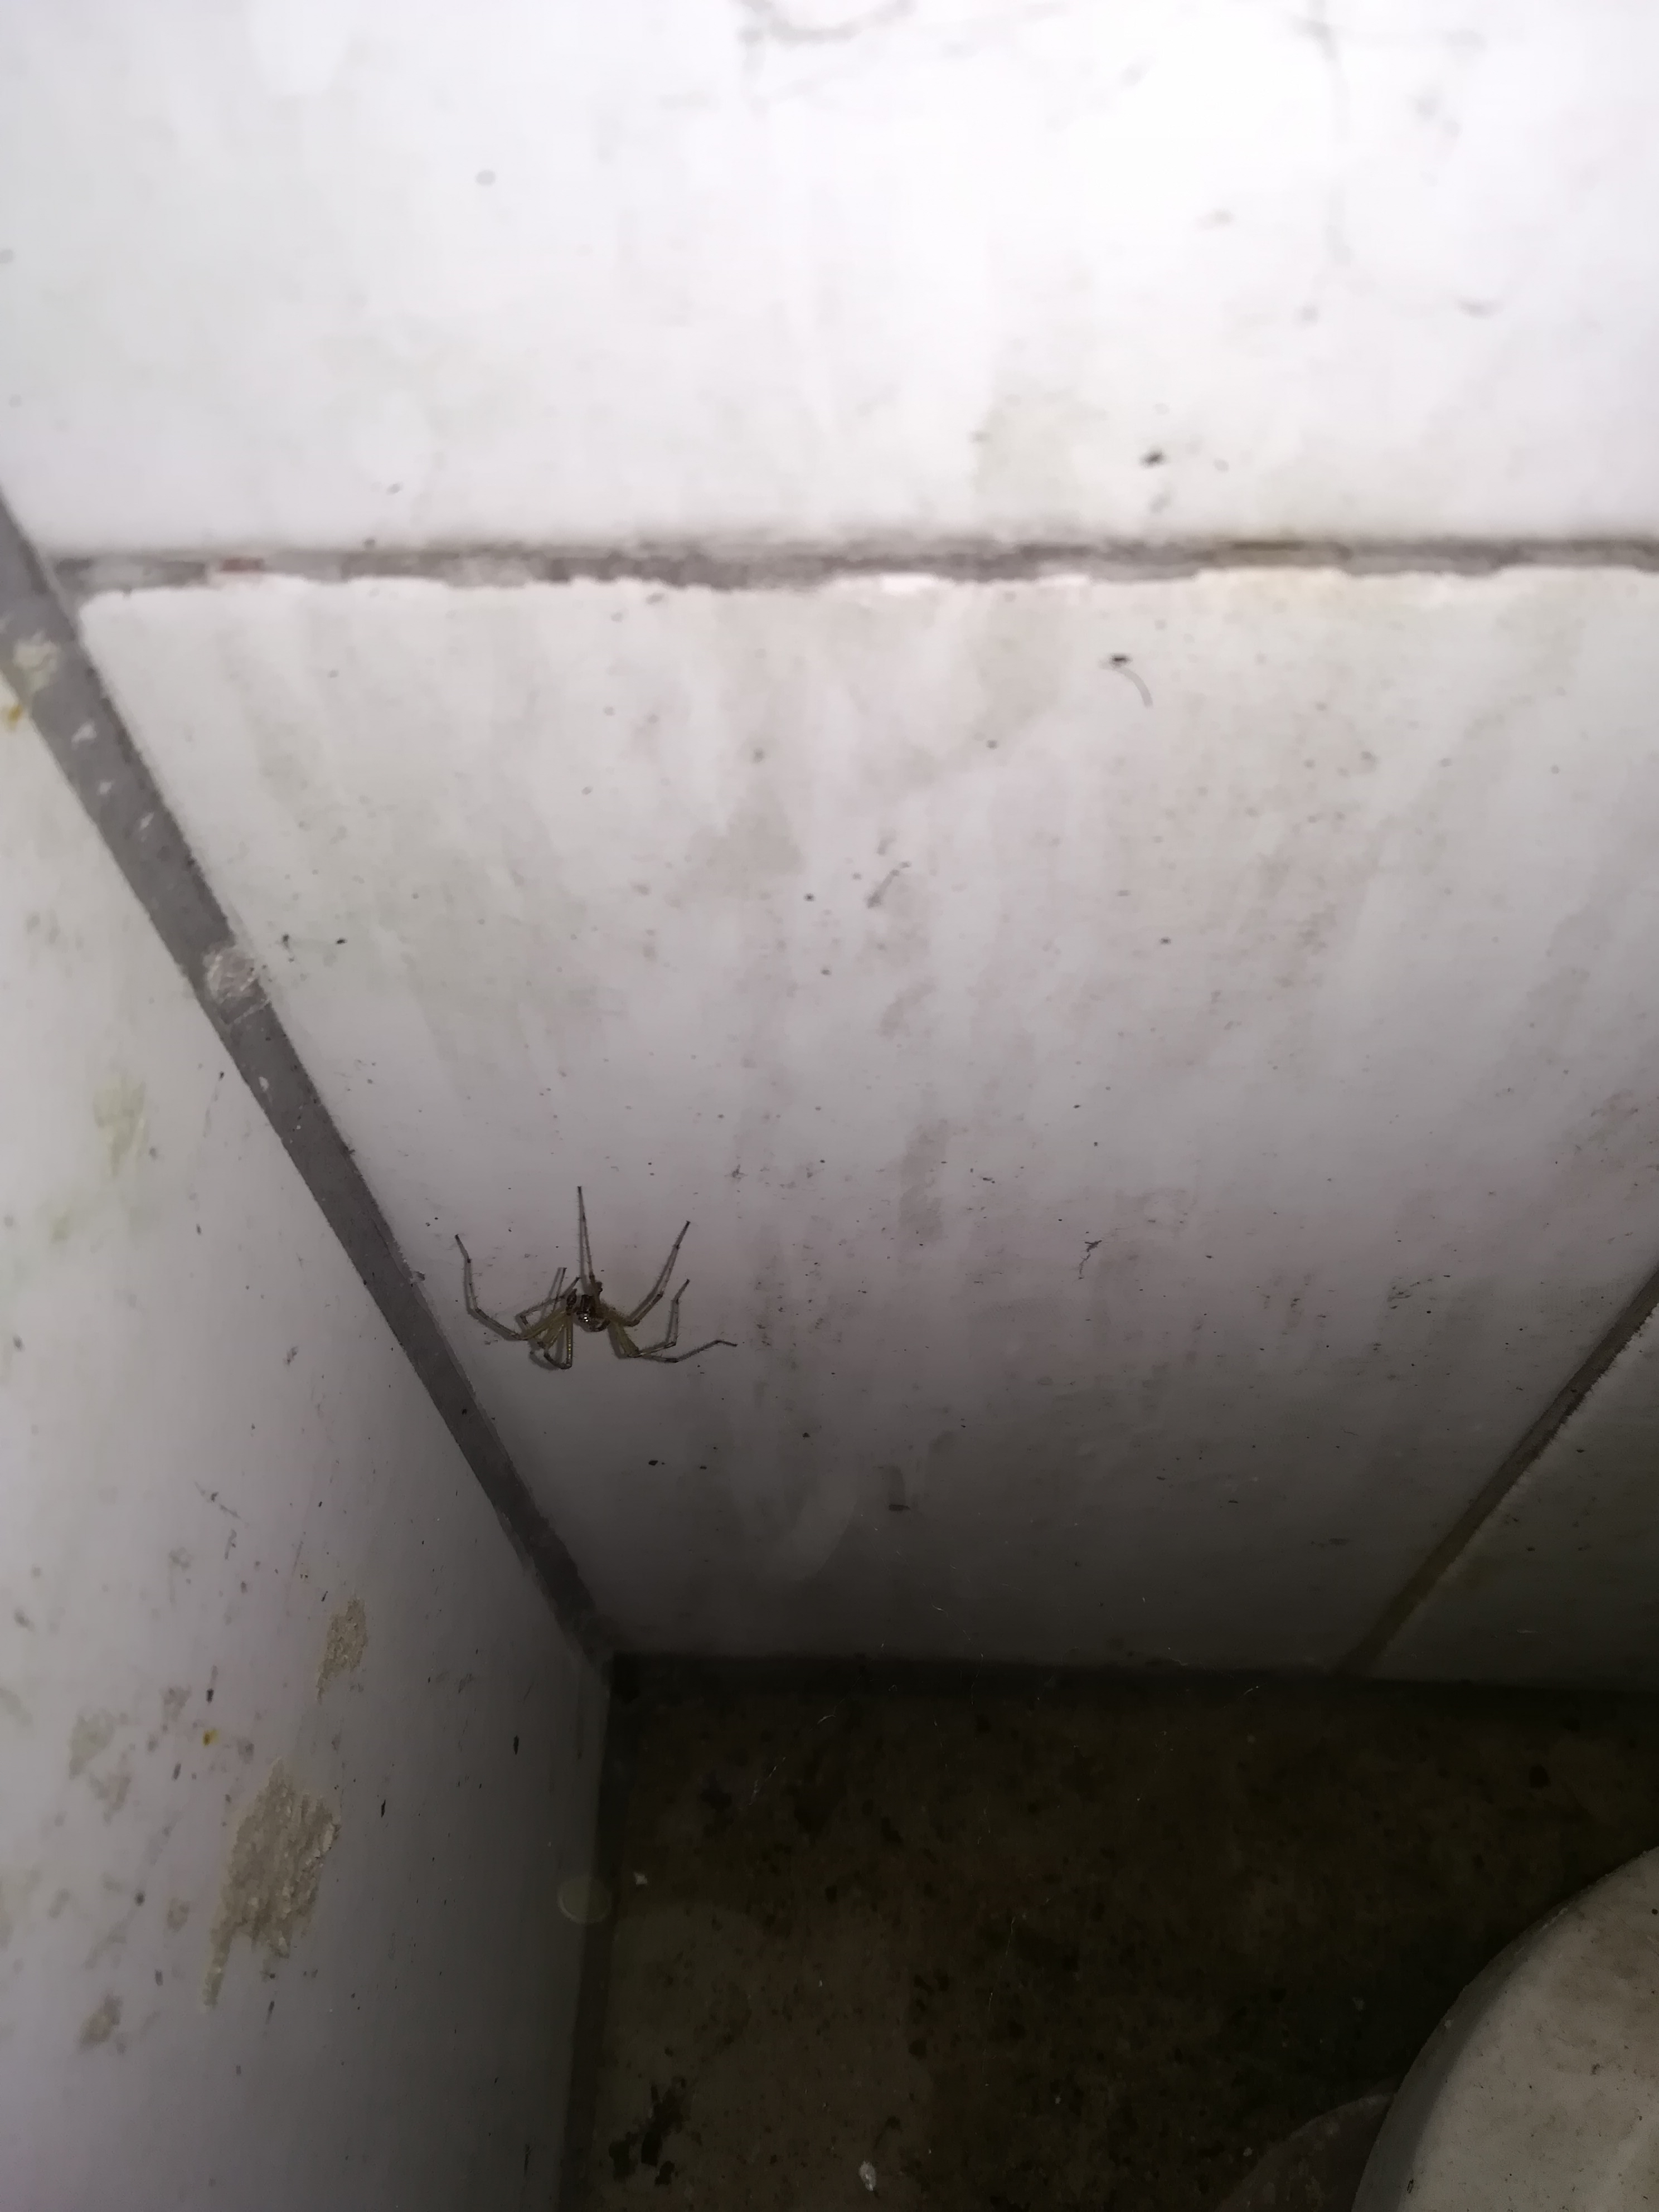spider: (418, 1162, 758, 1423)
